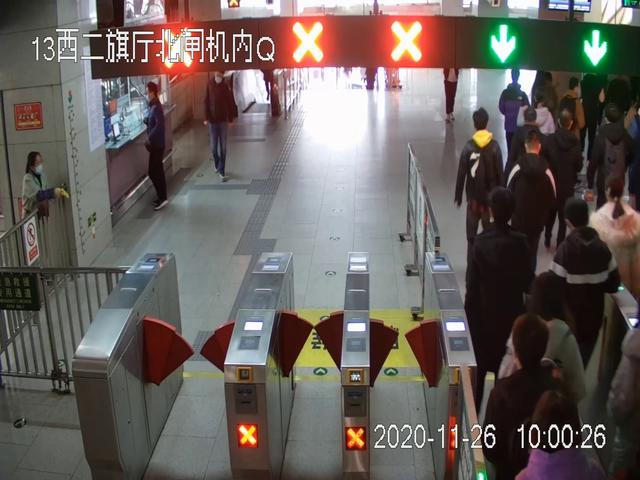person: (541, 196, 622, 429), (480, 315, 581, 480), (464, 187, 534, 419), (454, 107, 506, 276), (539, 109, 584, 252), (589, 103, 635, 229), (203, 70, 240, 185), (142, 81, 171, 210), (20, 151, 48, 275)
